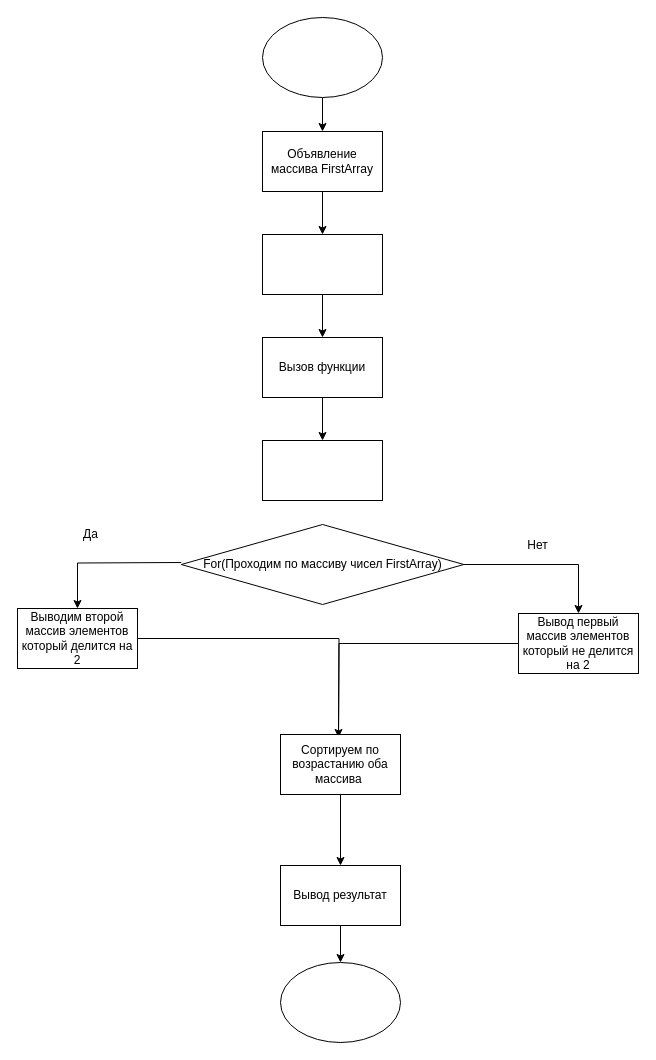
The diagram is 656 pixels wide and 1060 high, and some of its shapes have lost their labels. Here are the shapes that lost their labels. From the top down, the centre of each, then its label:
At pixel 322 57: "Начало".
At pixel 322 264: "Объявление массива SecondArray".
At pixel 322 470: "Объявление переменной A".
At pixel 340 1002: "Конец".
